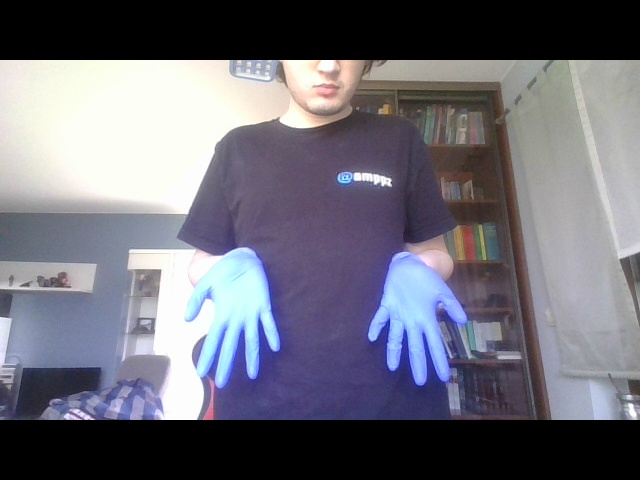glove: (180, 245, 293, 389), (366, 248, 470, 387)
